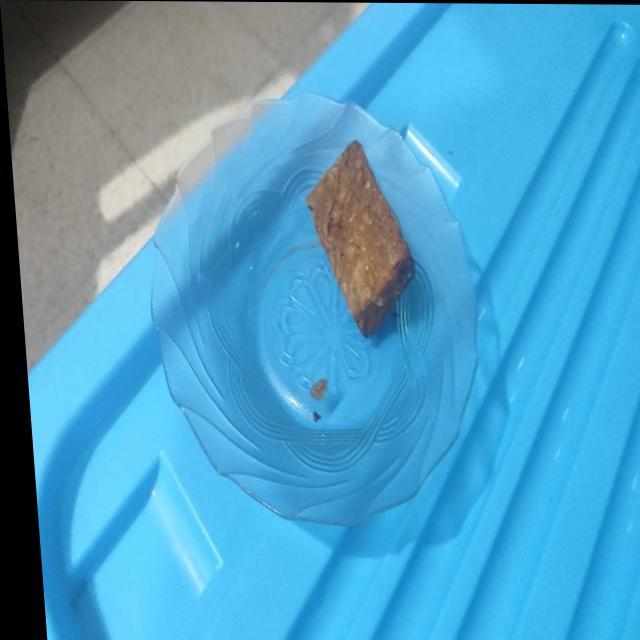tempe_goreng: (306, 141, 414, 337)
